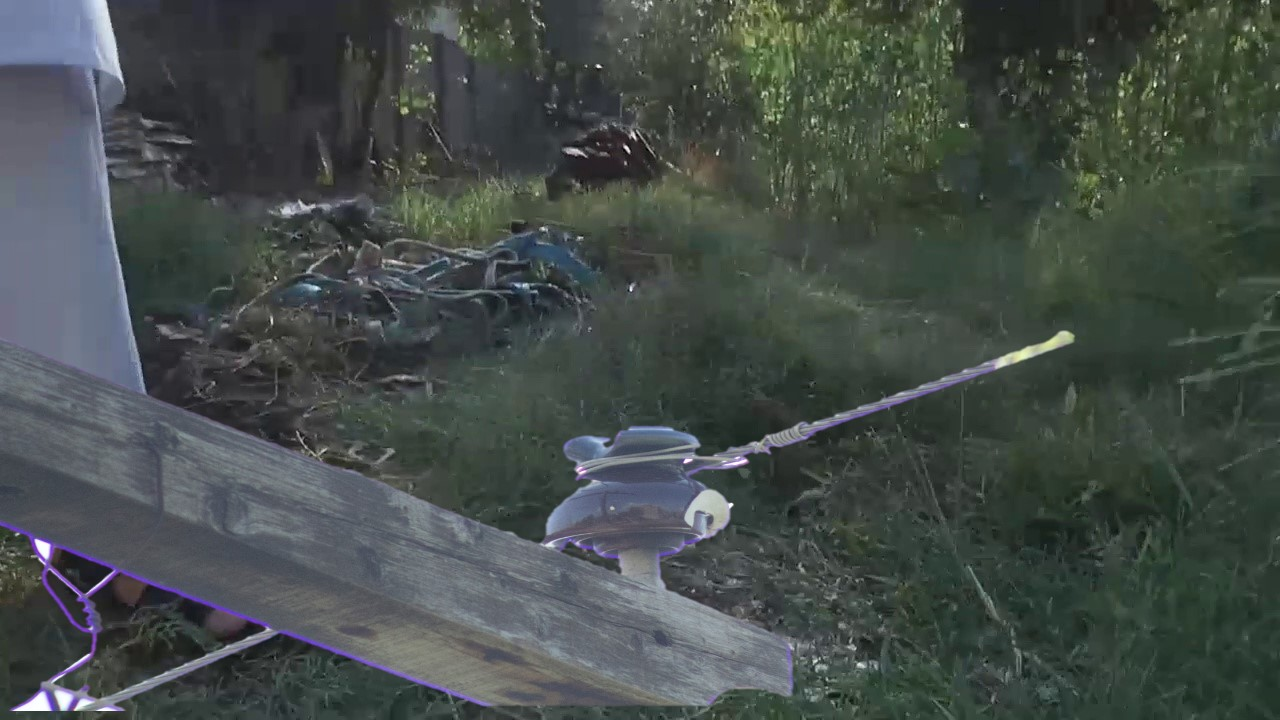defect_pin: (534, 420, 747, 569)
